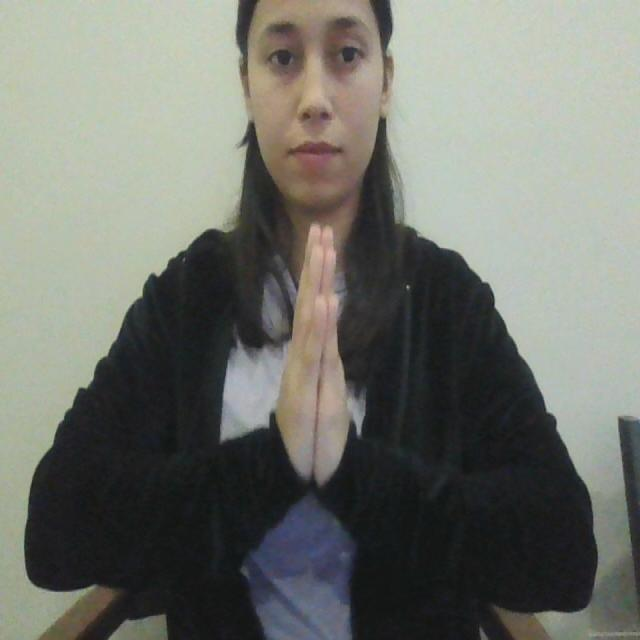Ozur-Dilemek: (273, 212, 358, 514)
